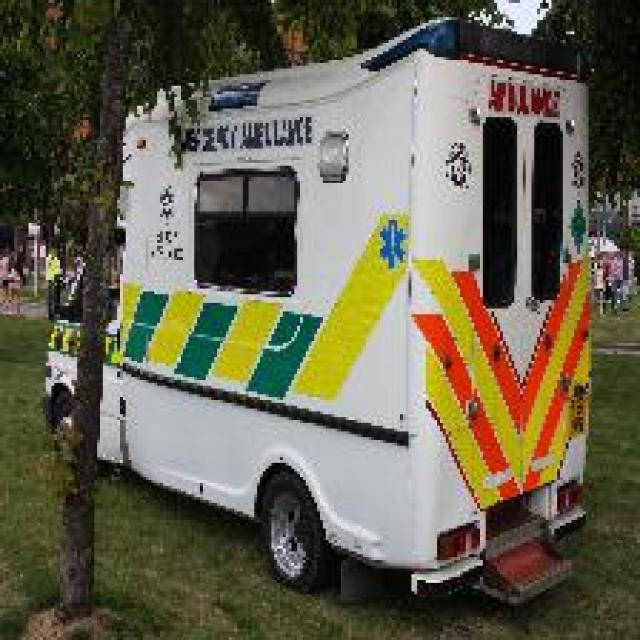Ambulance: (40, 14, 594, 606)
